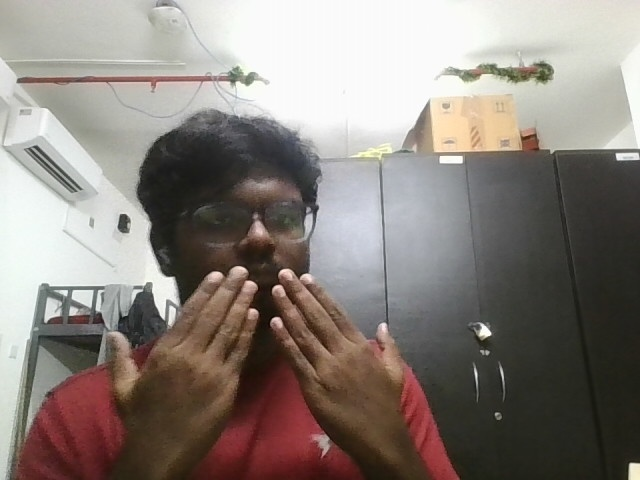Thanks: (100, 261, 439, 480)
